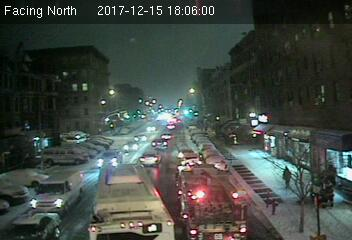bus: (90, 162, 177, 239)
car: (96, 149, 123, 169), (139, 151, 161, 165), (122, 140, 140, 152), (150, 139, 167, 150)
pedestrian: (280, 165, 291, 190)
truck: (26, 170, 85, 212)
